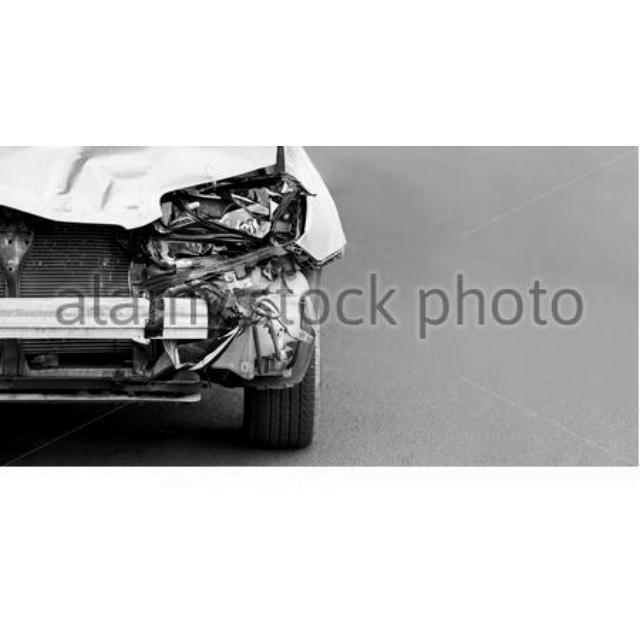bonnet-dent: (0, 149, 274, 232)
